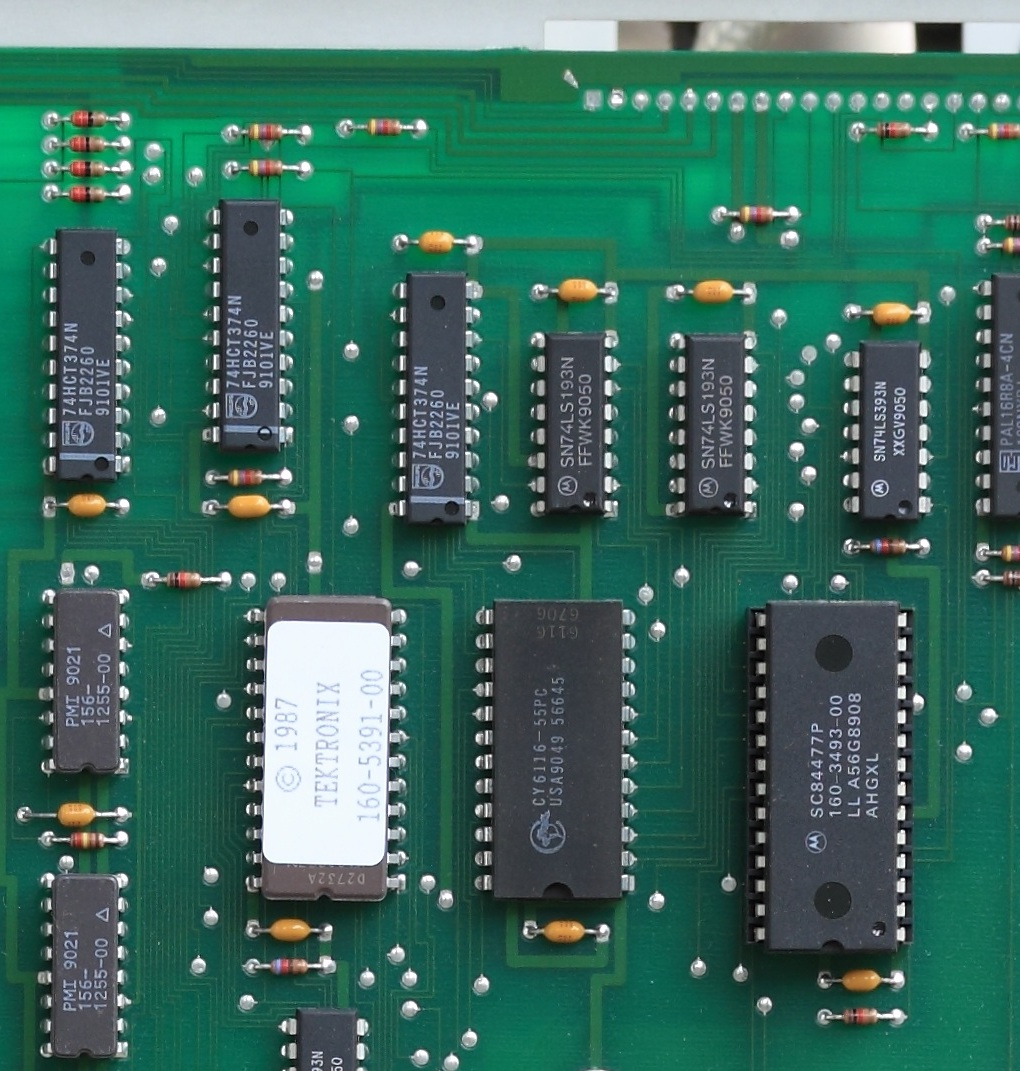Resistor: (224, 462, 269, 490), (63, 183, 110, 209), (262, 955, 314, 978), (733, 204, 782, 227), (361, 113, 407, 137), (64, 829, 110, 853), (833, 1006, 885, 1027), (162, 568, 209, 591), (64, 108, 114, 129), (865, 537, 913, 557), (63, 159, 110, 179), (243, 122, 292, 141), (66, 134, 111, 154), (243, 157, 285, 178), (873, 119, 915, 140), (981, 121, 1020, 141)
